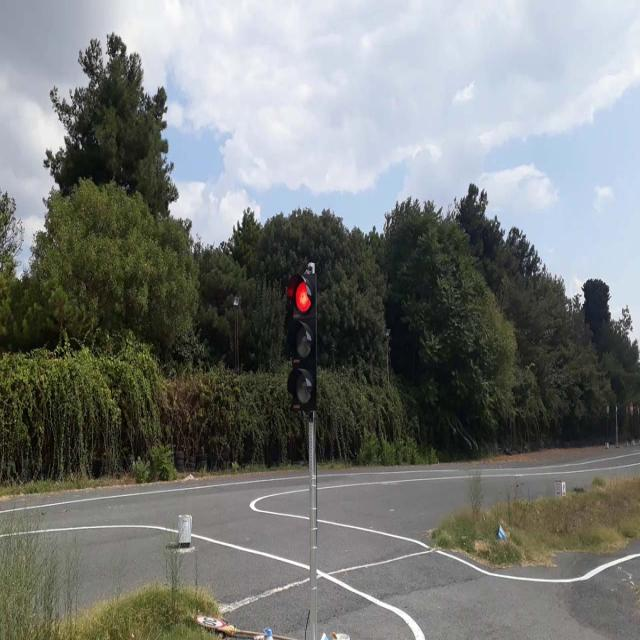kirmizi: (288, 274, 315, 407)
